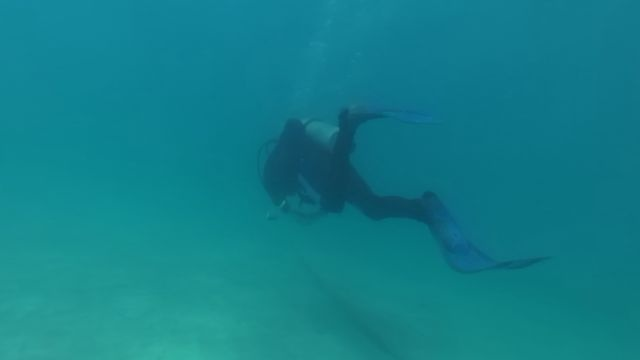Diver: (238, 106, 561, 291)
